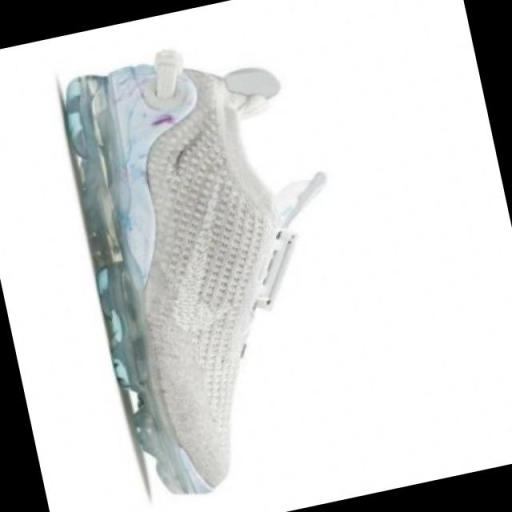Nike: (144, 176, 250, 342)
